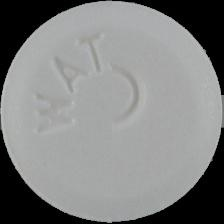52544-384: (0, 0, 224, 224)
